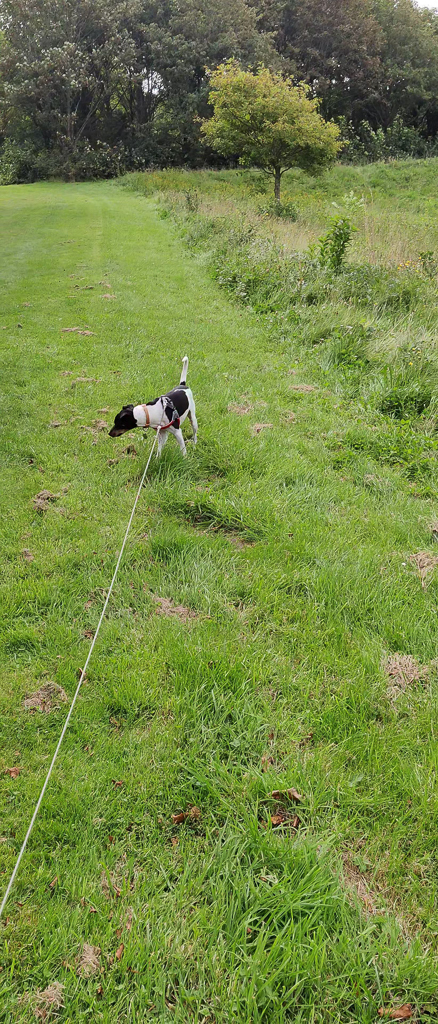Dog: (103, 350, 213, 469)
